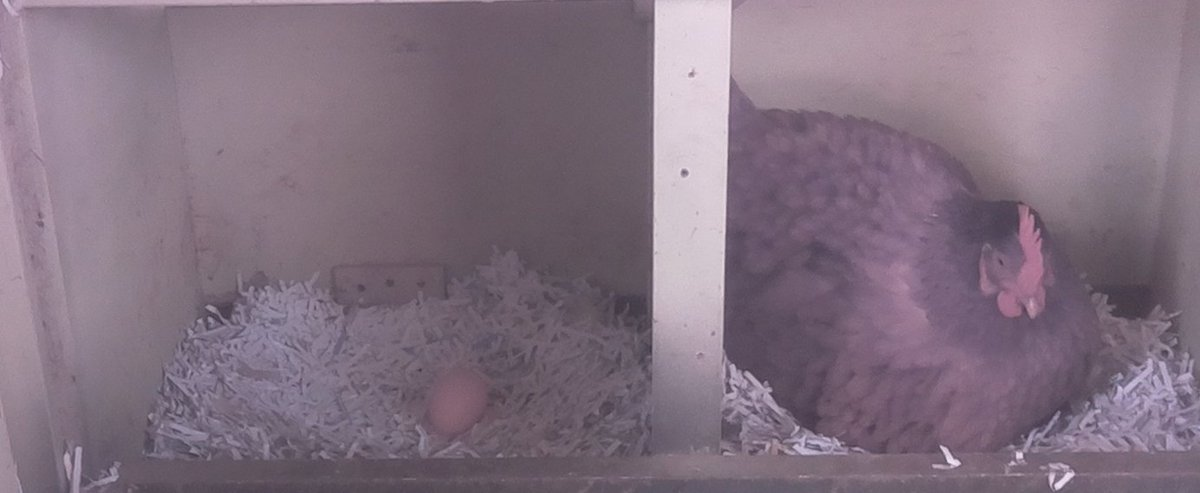egg: (425, 365, 497, 439)
hen: (732, 79, 1111, 450)
